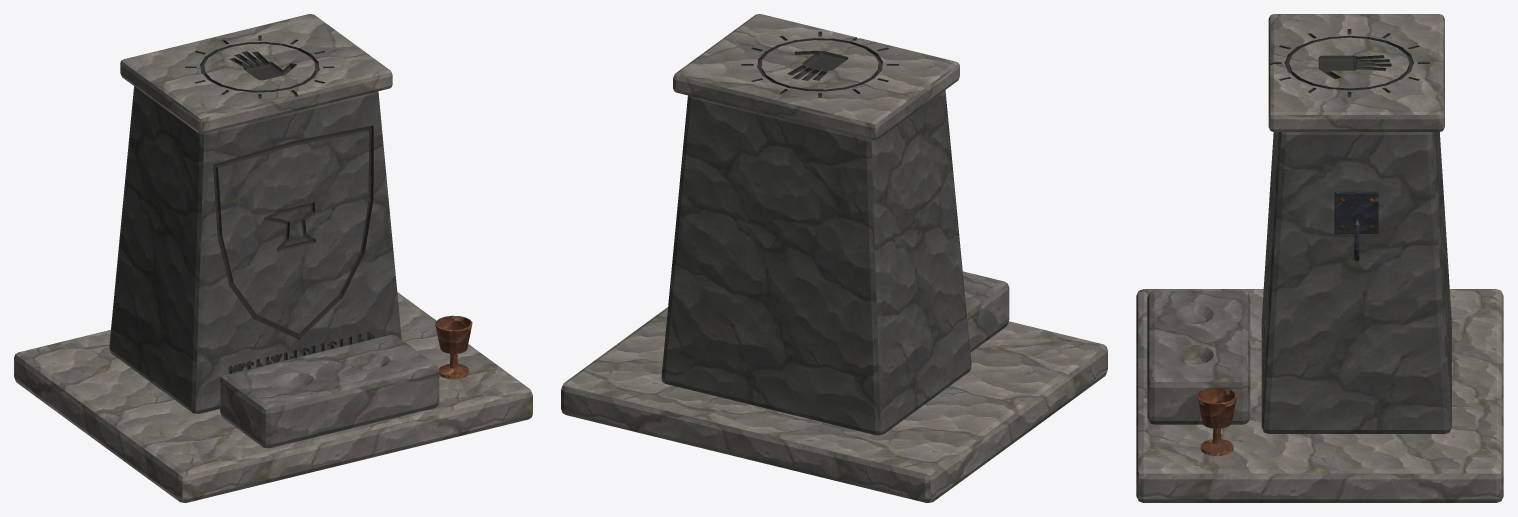
Rendered from hs_oath_stone.glb.
3 renders of one model, left to right at view 1: azimuth 30°, elevation 25°; view 2: azimuth 150°, elevation 25°; view 3: azimuth 270°, elevation 25°, orthographic. The views are drawn at different scales.
Parts seen in each view (by area): view 1: model; view 2: model; view 3: model.
Boxes of the visible parts, bbox=[...] form: model: bbox=[14, 14, 532, 502]; model: bbox=[561, 14, 1107, 502]; model: bbox=[1136, 14, 1503, 502].
Size of the model in its own units: 1.2 by 1.05 by 1.
Materials: 7 (6 with a texture image).
